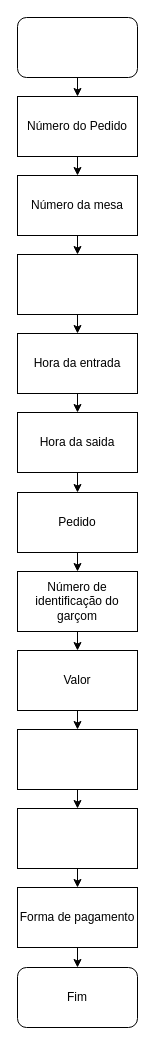
This 155x1045 diagram has some shape labels left out. The shapes that lost their labels are listed below. From the top down, each one's centre as x and y in pixels, then its label:
the point at 77,47: Pedidos
the point at 77,284: Data do pedido
the point at 77,759: Valor total
the point at 77,838: Status de fechamento de pedido
